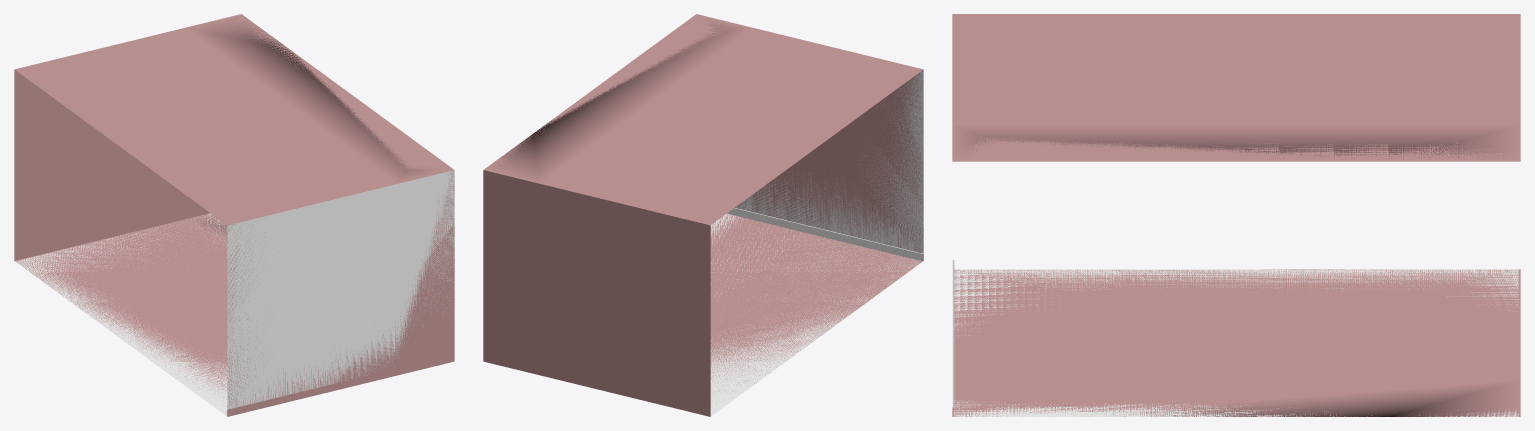
File: TR_SectionA_01.fbx
3 renders of one model, left to right at view 1: azimuth 30°, elevation 25°; view 2: azimuth 150°, elevation 25°; view 3: azimuth 270°, elevation 25°, orthographic. The views are drawn at different scales.
Parts seen in each view (by area): view 1: TR_SectionA_01_Col, TR_SectionA_01_LOD0; view 2: TR_SectionA_01_Col, TR_SectionA_01_LOD0; view 3: TR_SectionA_01_Col, TR_SectionA_01_LOD0.
Boxes of the visible parts, x1,y1,x2,y2 form: TR_SectionA_01_Col: (14,14,454,416); TR_SectionA_01_LOD0: (14,14,454,416); TR_SectionA_01_Col: (483,14,923,416); TR_SectionA_01_LOD0: (484,14,923,416); TR_SectionA_01_Col: (952,14,1520,416); TR_SectionA_01_LOD0: (952,14,1520,416).
Bounding box in the file's own units: 400 × 322 × 650.
